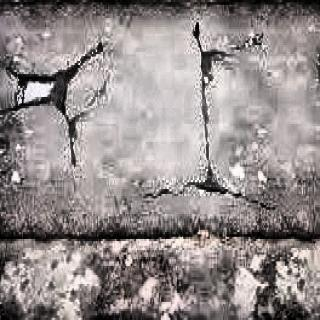alligator-crack: (176, 87, 271, 208)
crack: (1, 221, 320, 261)
pothole: (14, 59, 86, 131), (198, 48, 212, 74)
